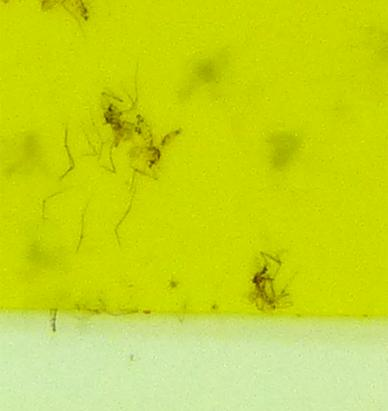Nematocera: (100, 100, 145, 147), (248, 261, 288, 311), (142, 132, 172, 169)
